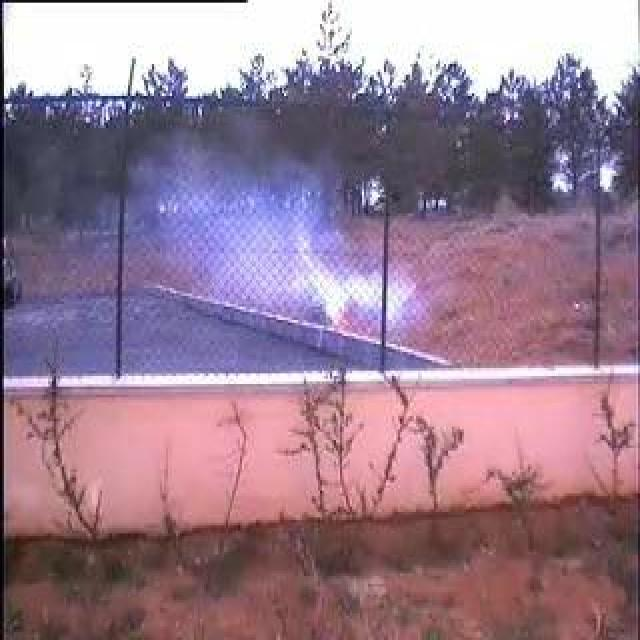Smoke: (137, 133, 407, 355)
